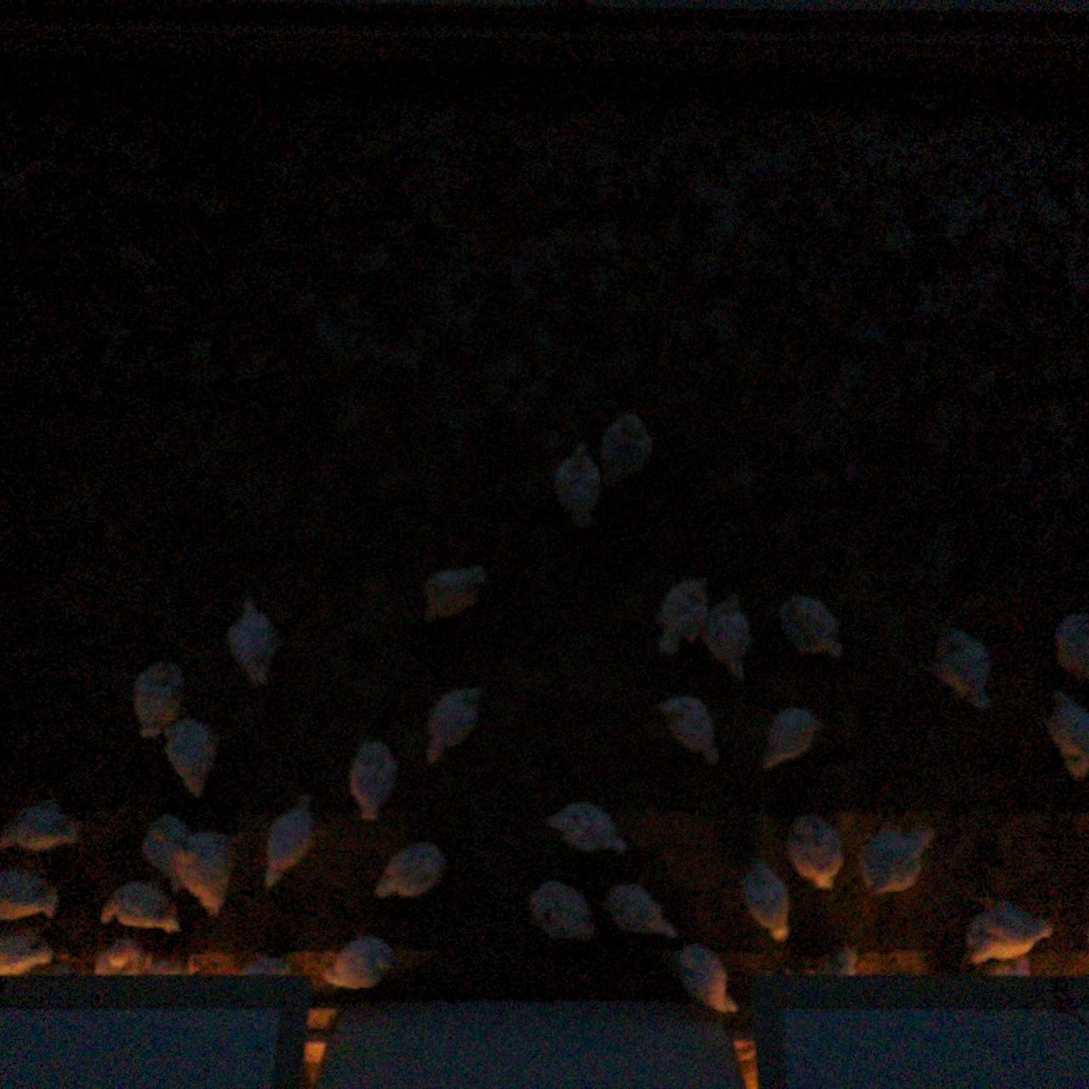chicken: (952, 887, 1057, 978), (920, 617, 1001, 717), (181, 825, 253, 922), (260, 787, 324, 893), (771, 587, 852, 669), (861, 821, 942, 903), (222, 590, 287, 691), (94, 872, 187, 941), (667, 939, 746, 1018), (649, 570, 715, 664), (545, 436, 608, 533), (737, 853, 802, 947), (124, 652, 189, 745), (651, 687, 723, 770), (160, 712, 224, 805), (598, 875, 683, 945), (418, 682, 487, 768), (520, 872, 597, 949), (0, 794, 94, 857), (539, 795, 631, 859), (698, 587, 757, 686), (369, 835, 452, 905), (783, 807, 848, 896), (315, 930, 399, 998), (345, 733, 403, 826), (416, 559, 495, 627), (1037, 684, 1089, 784), (594, 411, 659, 491), (760, 702, 831, 775), (0, 923, 81, 978), (138, 805, 194, 880), (0, 864, 65, 925), (89, 927, 159, 979), (1048, 606, 1089, 686)
